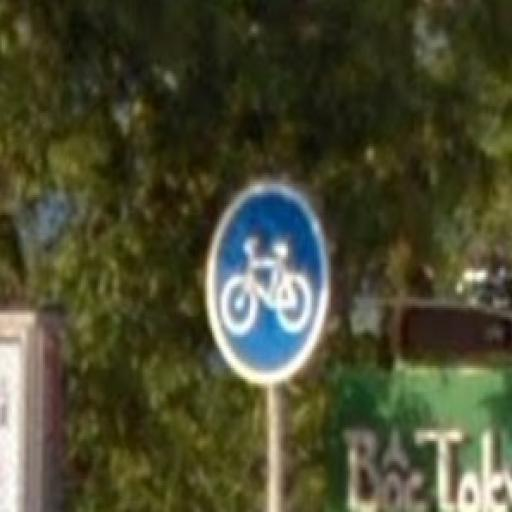traffic_sign: (206, 183, 332, 384)
